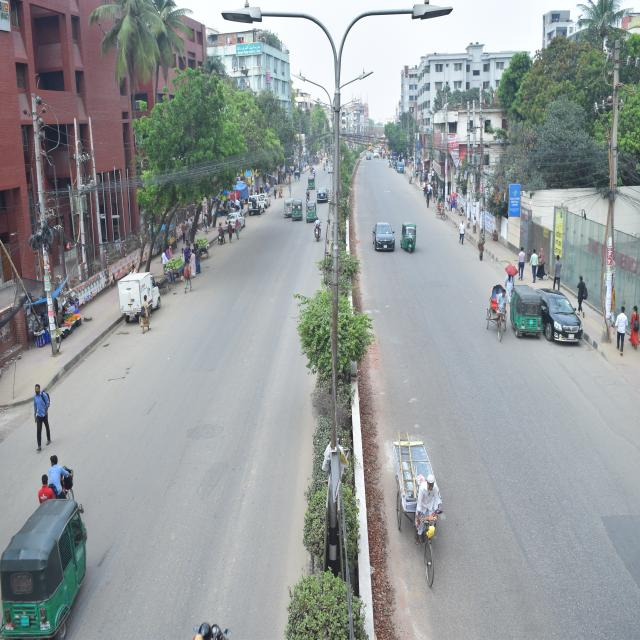car: (525, 261, 587, 385), (365, 213, 410, 273), (212, 204, 256, 248), (244, 190, 263, 237), (308, 180, 330, 213), (257, 184, 272, 216), (364, 147, 374, 171), (372, 144, 382, 162)
motorbike: (182, 598, 264, 640), (206, 210, 238, 261), (310, 214, 328, 255), (307, 163, 319, 190), (301, 178, 312, 204), (320, 161, 328, 178), (323, 159, 330, 173)
pickup-van: (102, 260, 170, 351), (392, 153, 413, 185)
